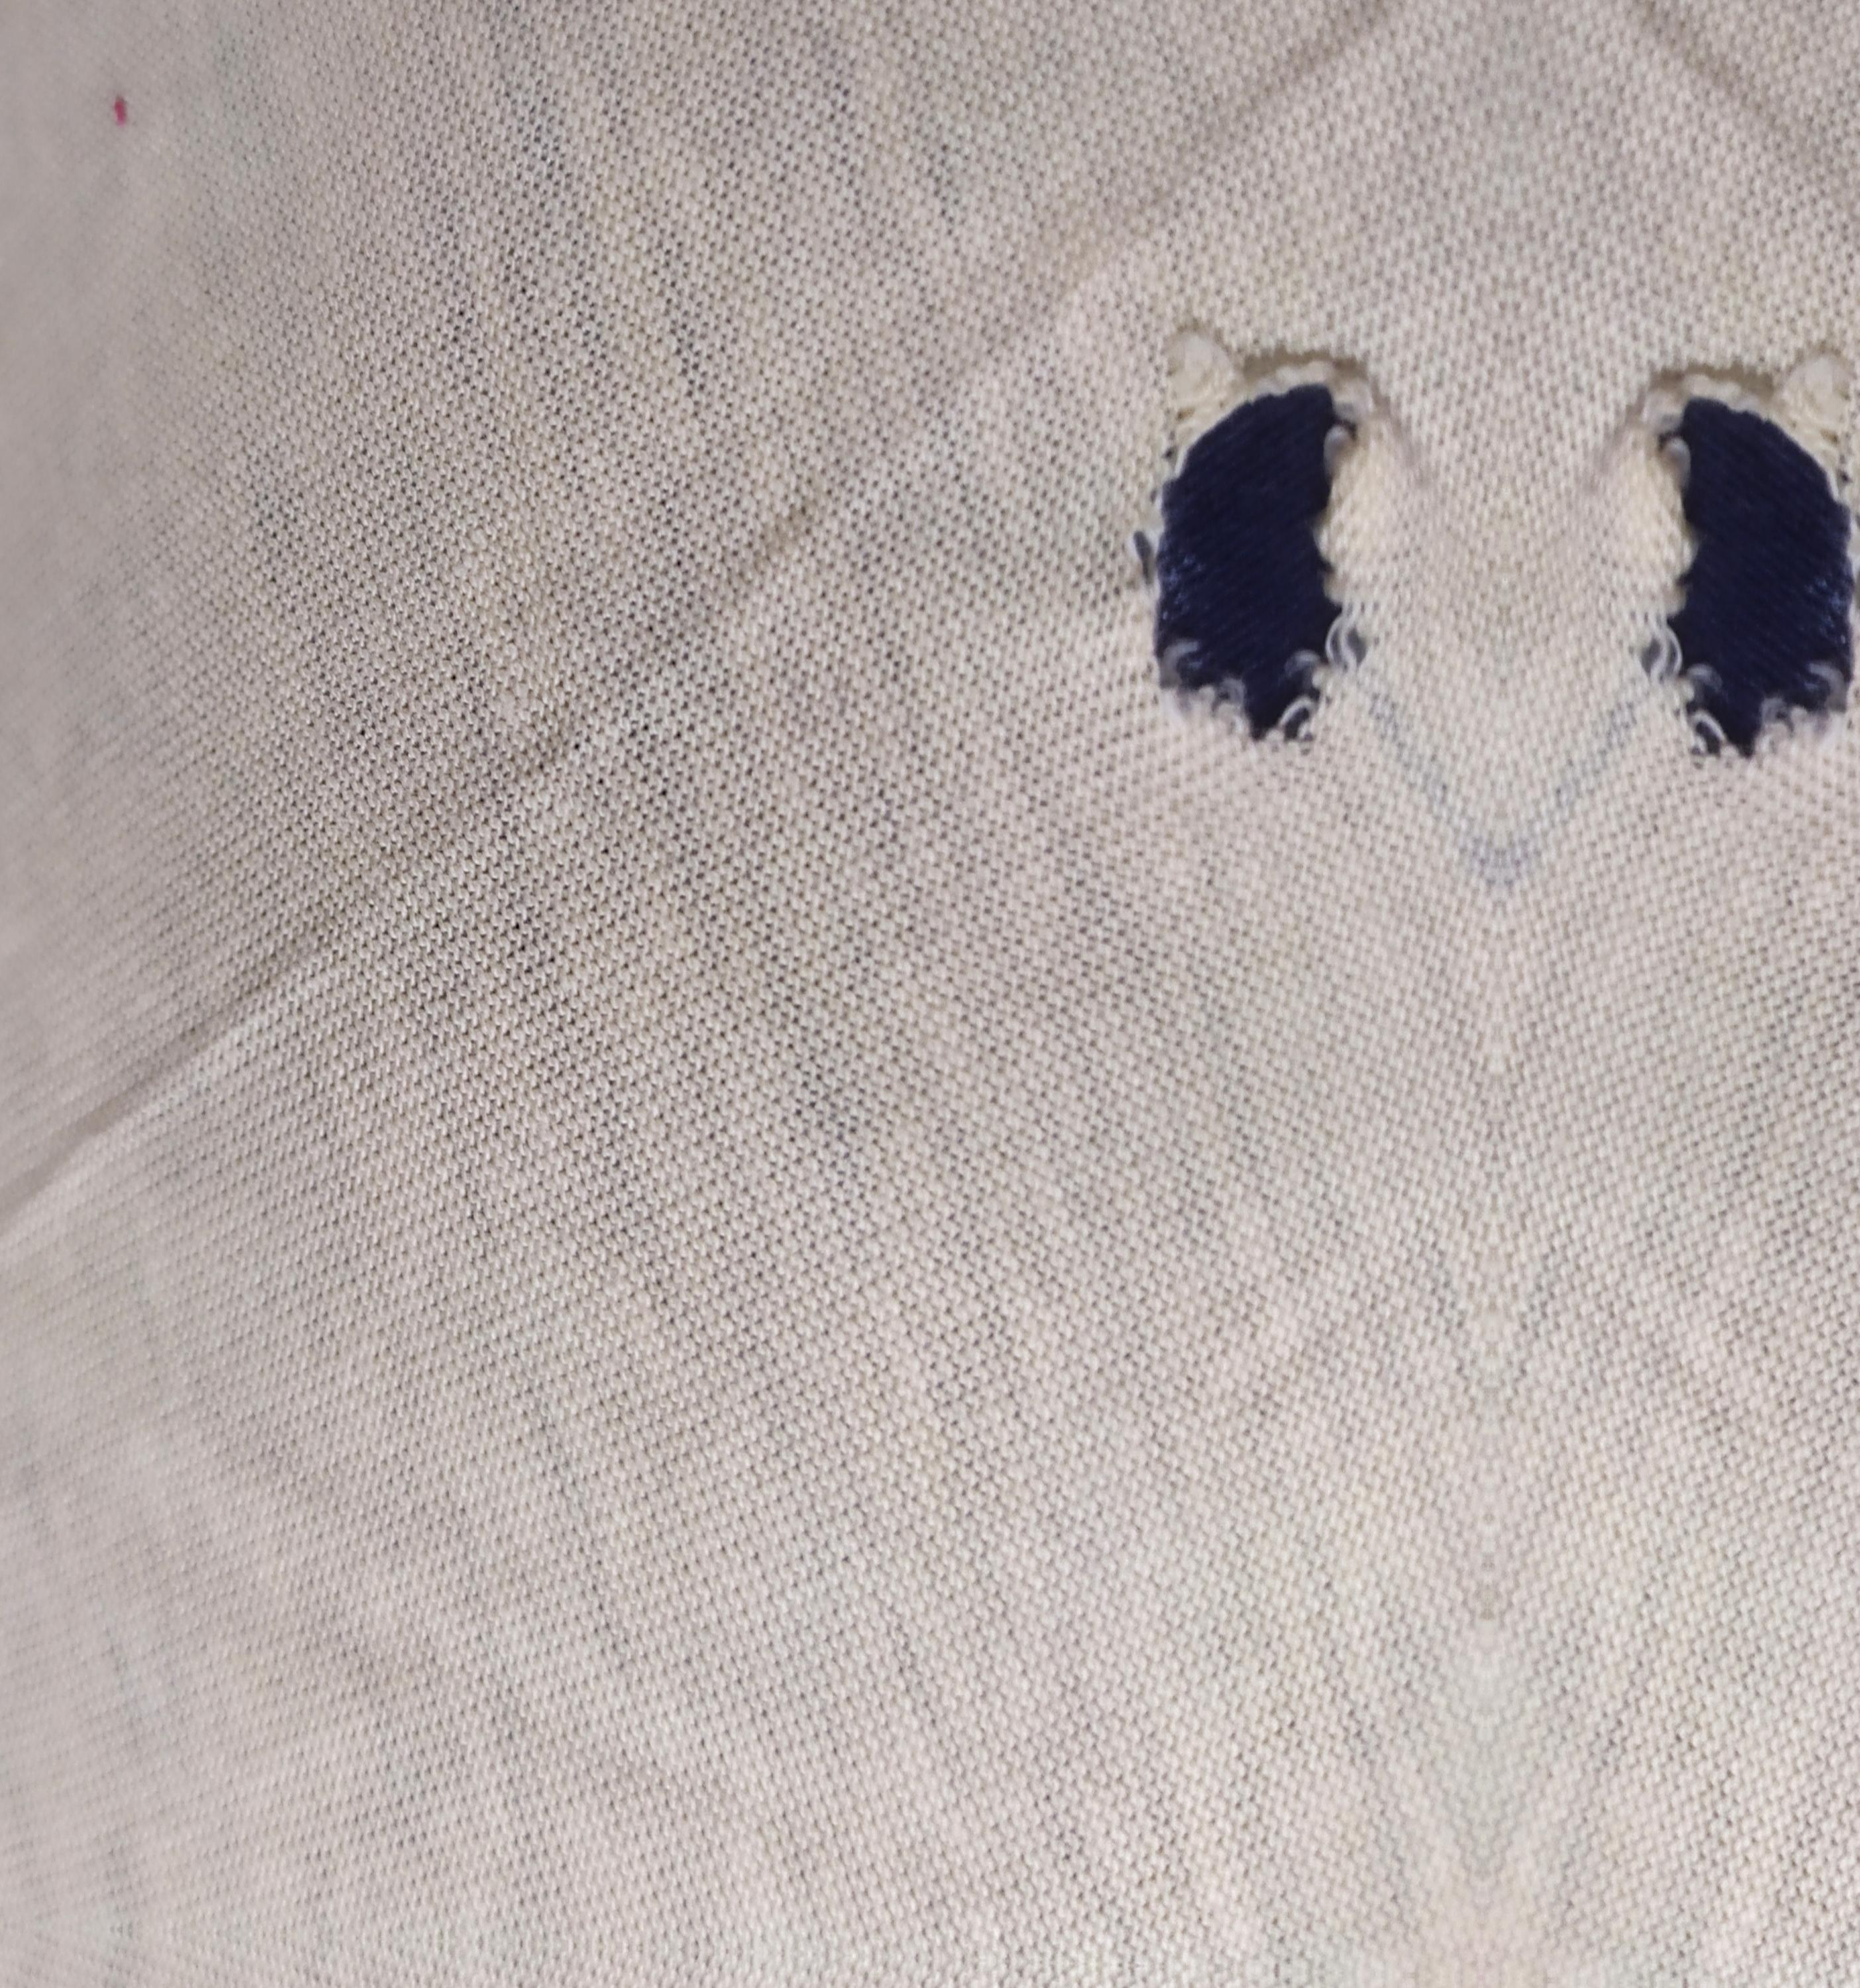hole: (1138, 315, 1398, 754), (1608, 337, 1860, 780)
